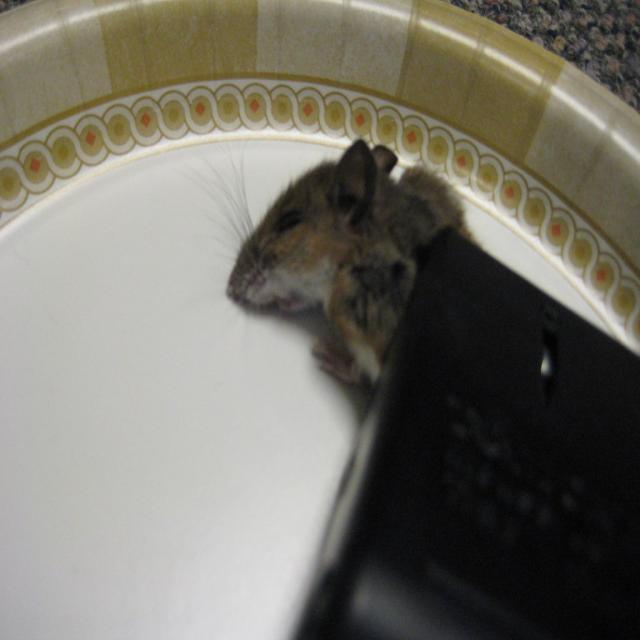rat: (224, 136, 469, 387)
